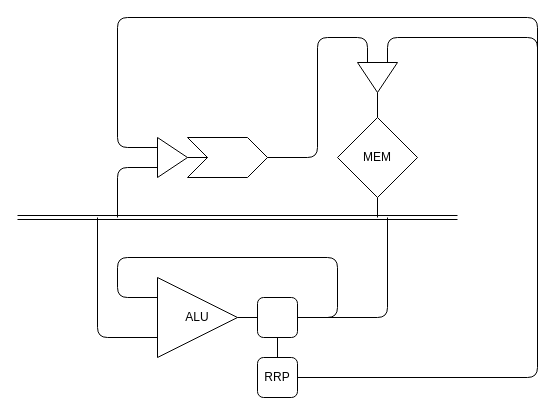
Image size: 556x415. Some labels were removed from this diagram. The centre of each missing label's shape, as x and y in pixels:
"PC" goes at (x=227, y=157).
"RRA" goes at (x=277, y=317).
